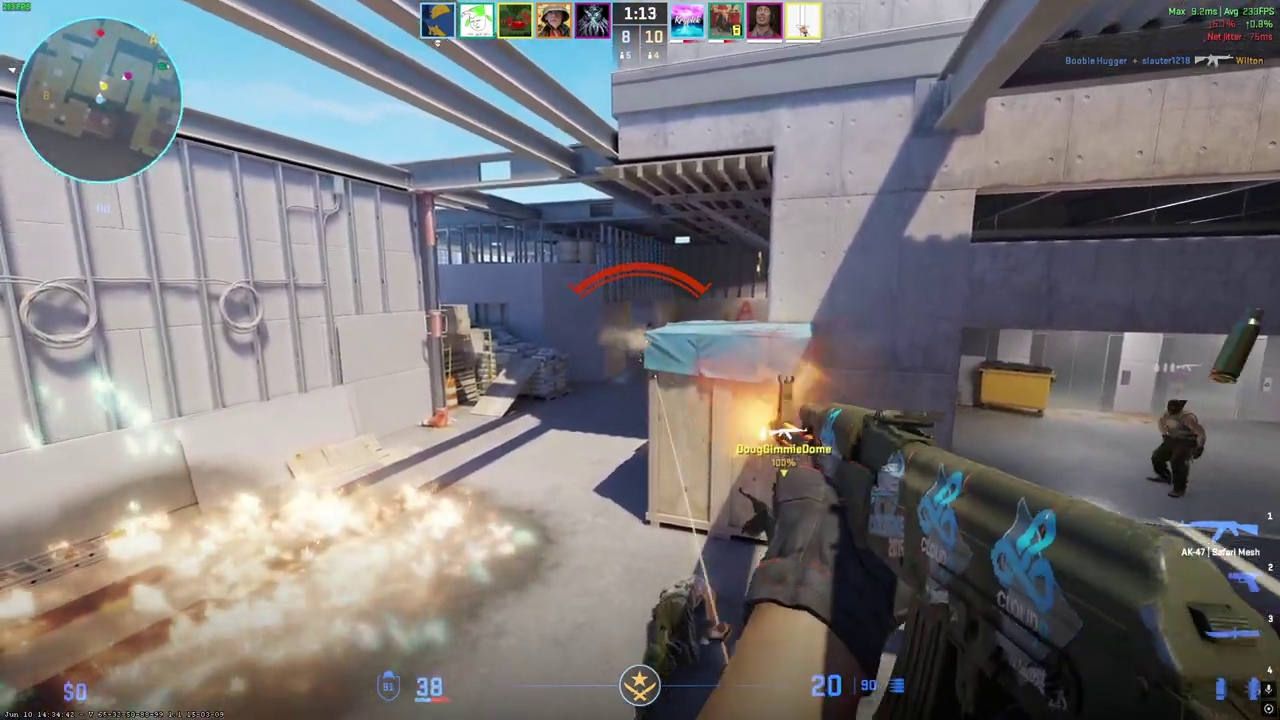Terrorist: (1150, 399, 1203, 498)
